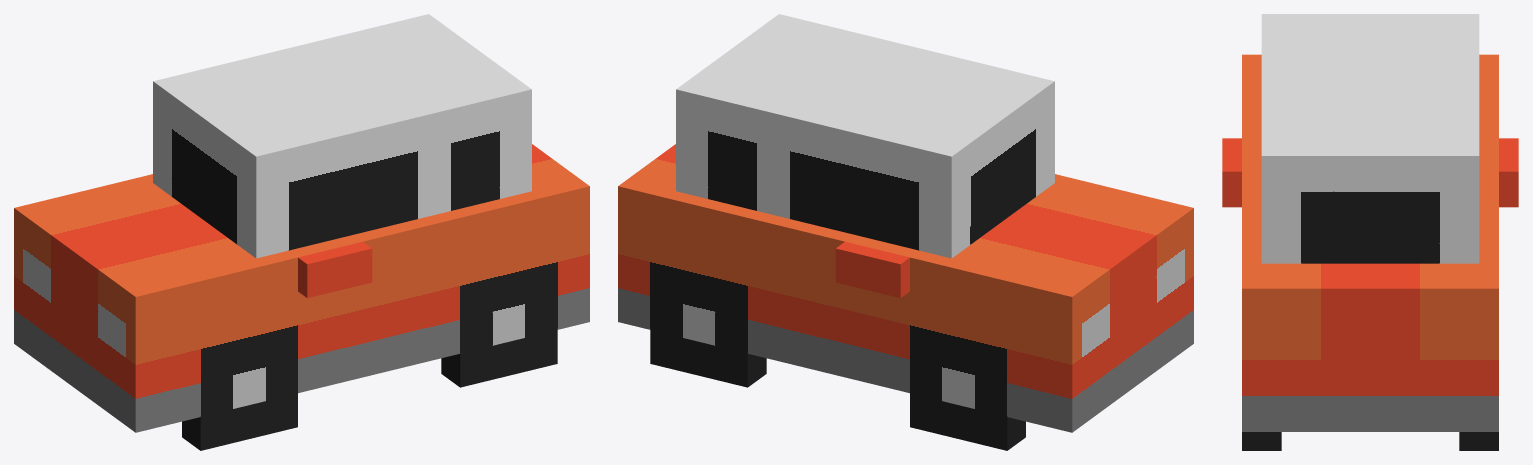
The model's file is veh_car_orange.dae.
3 renders of one model, left to right at view 1: azimuth 30°, elevation 25°; view 2: azimuth 150°, elevation 25°; view 3: azimuth 270°, elevation 25°, orthographic. The views are drawn at different scales.
Parts seen in each view (by area): view 1: veh_car_orange; view 2: veh_car_orange; view 3: veh_car_orange.
Part boxes in pixels (<box>): veh_car_orange: <box>14,14,589,450</box>; veh_car_orange: <box>618,14,1193,450</box>; veh_car_orange: <box>1222,14,1518,450</box>.
Bounding box in the file's own units: 2.8 × 1.6 × 1.5.
